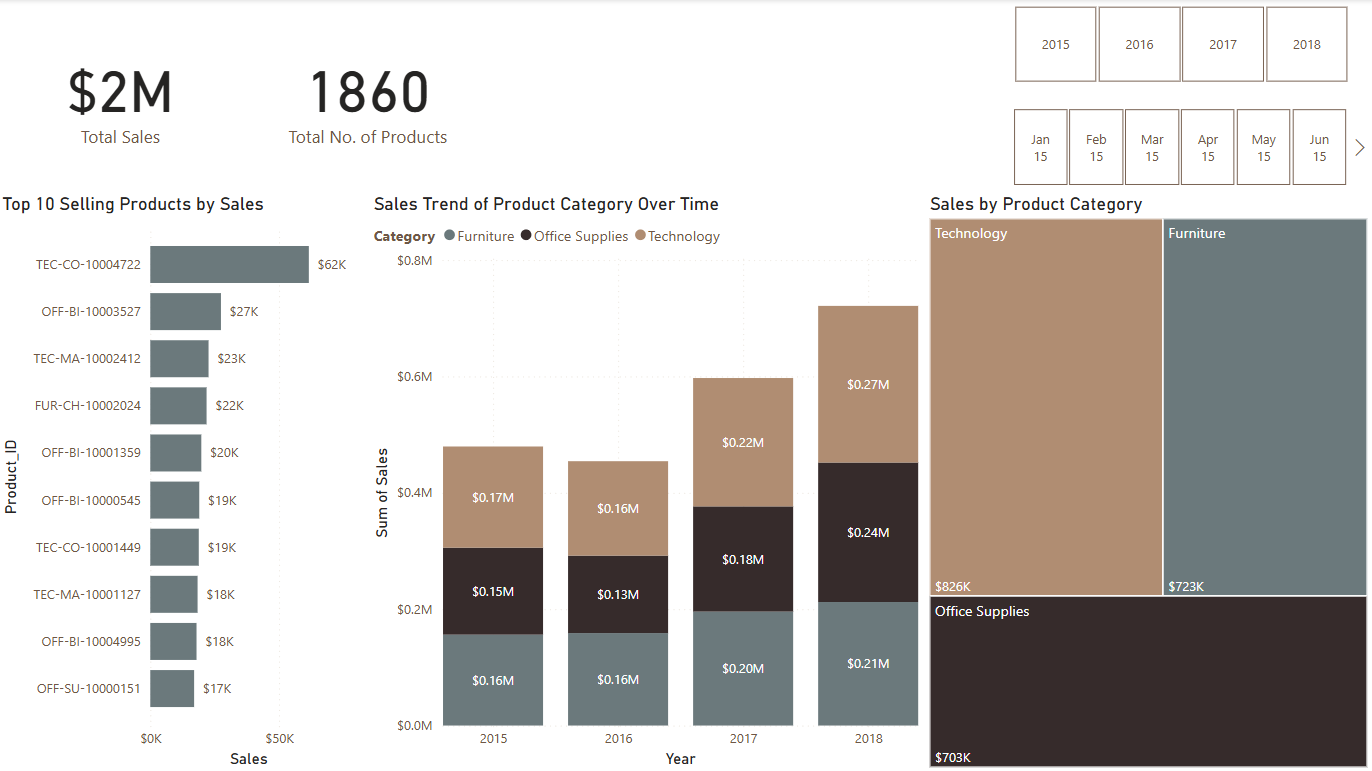

What the dashboard file says about the page in this screenshot:
{"tool":"powerbi","page":{"name":"Product Analysis","canvas":[1280,720],"ordinal":2},"visuals":[{"type":"card","fields":{"Values":["Sum(superstore_db superstore.Sales)"]},"box":[0,0,230.1,179.7],"z":0},{"type":"card","fields":{"Values":["Count(superstore_db superstore.Product_ID)"]},"box":[230.1,0,230.1,179.7],"z":1000},{"type":"slicer","fields":{"Values":["superstore_db superstore.Order_Date.Variation.Date Hierarchy.Year"]},"box":[920.5,0,359.5,84],"z":2000},{"type":"treemap","title":"Sales by Product Category ","fields":{"Values":["Sum(superstore_db superstore.Sales)"],"Group":["superstore_db superstore.Category","superstore_db superstore.Sub_Category"]},"box":[862.3,180.4,417.1,539.6],"z":4000},{"type":"columnChart","title":"Sales Trend of Product Category Over Time","fields":{"Category":["superstore_db superstore.Order_Date.Variation.Date Hierarchy.Year"],"Y":["Sum(superstore_db superstore.Sales)"],"Series":["superstore_db superstore.Category"]},"box":[345.2,180.4,517.1,539.6],"z":5000},{"type":"barChart","title":"Top 10 Selling Products by Sales","fields":{"Category":["superstore_db superstore.Product_ID"],"Y":["Sum(superstore_db superstore.Sales)"]},"box":[0,180.4,345.2,539.6],"z":6000},{"type":"slicer","fields":{"Values":["superstore_db superstore.MonthYear"]},"box":[920.1,95.8,359.3,84.5],"z":7000}]}

Visuals, with their boxes in screenshot pixels (x1, y1, x2, y2), scaled from the page's 1280x720 canvas onto the 1372x771 screenshot:
card - Sum(superstore_db superstore.Sales): <region>0, 0, 247, 192</region>
card - Count(superstore_db superstore.Product_ID): <region>247, 0, 493, 192</region>
slicer - superstore_db superstore.Order_Date.Variation.Date Hierarchy.Year: <region>987, 0, 1371, 90</region>
"Sales by Product Category " treemap: <region>924, 193, 1371, 770</region>
"Sales Trend of Product Category Over Time" columnChart: <region>370, 193, 924, 770</region>
"Top 10 Selling Products by Sales" barChart: <region>0, 193, 370, 770</region>
slicer - superstore_db superstore.MonthYear: <region>986, 103, 1371, 193</region>
